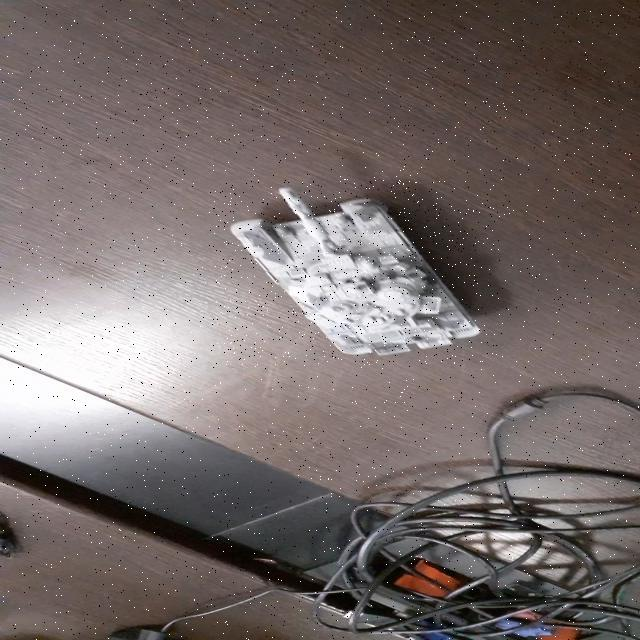MIL_MBT: (214, 180, 494, 365)
